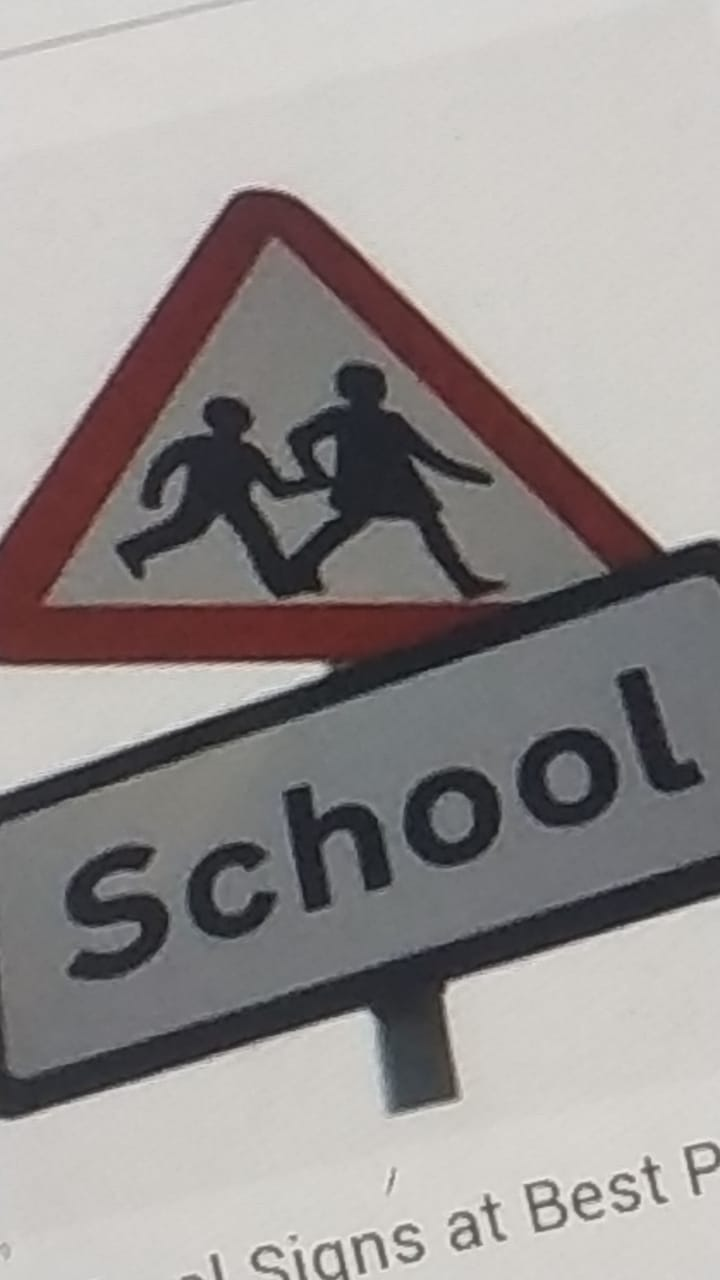SCHOOL ZONE: (1, 149, 706, 721)
